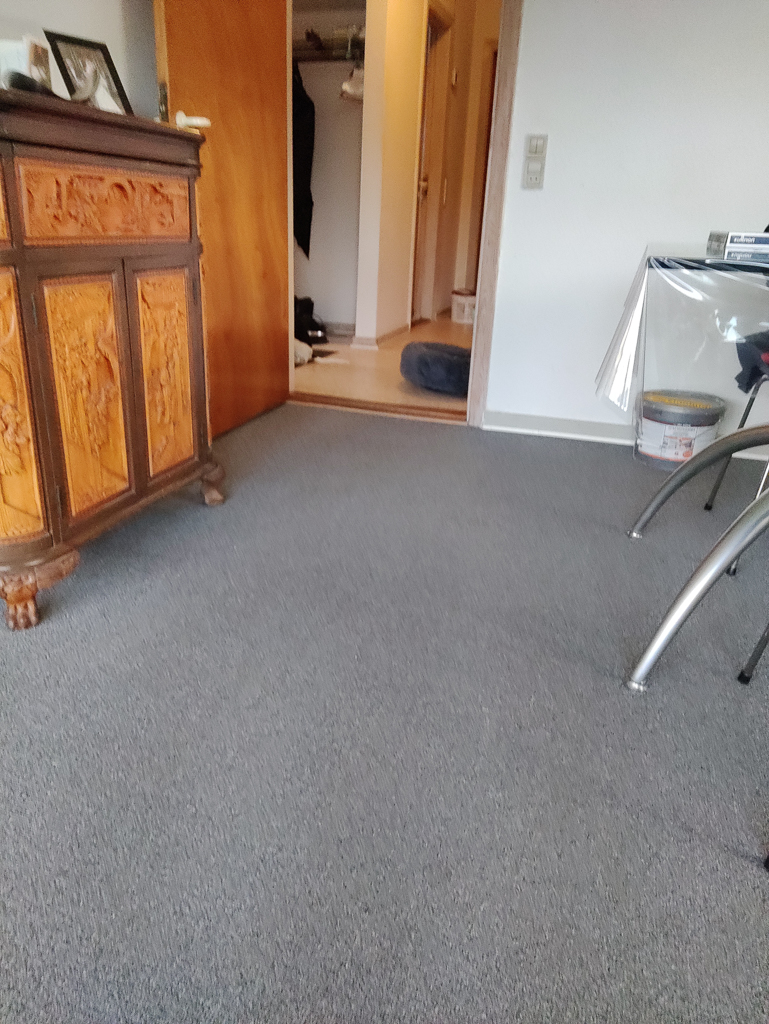Dog: (290, 288, 357, 370)
